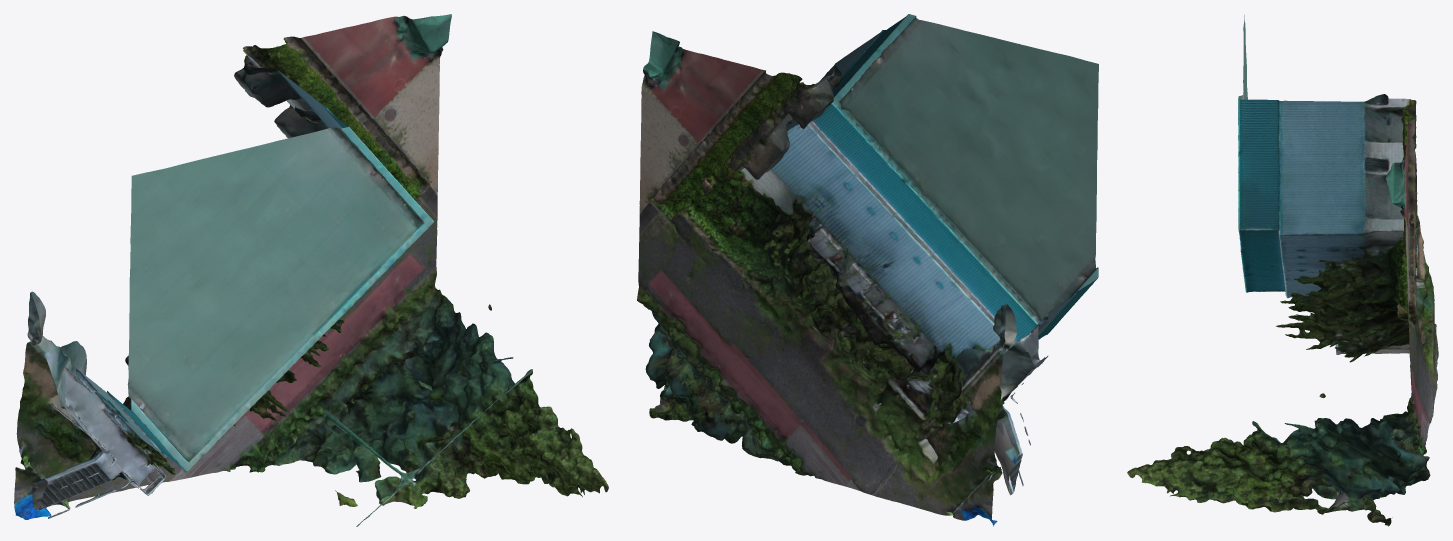
Rendered from Tile_+020_+007.fbx.
3 renders of one model, left to right at view 1: azimuth 30°, elevation 25°; view 2: azimuth 150°, elevation 25°; view 3: azimuth 270°, elevation 25°, orthographic. The views are drawn at different scales.
Visible parts, largest first — view 1: DefaultName; view 2: DefaultName; view 3: DefaultName.
Boxes of the visible parts, box(x1,y1,x2,y2) form: DefaultName: box(14, 14, 608, 526); DefaultName: box(637, 14, 1098, 526); DefaultName: box(1127, 15, 1438, 526).
Size of the model in its own units: 22.54 by 22.54 by 18.19.
